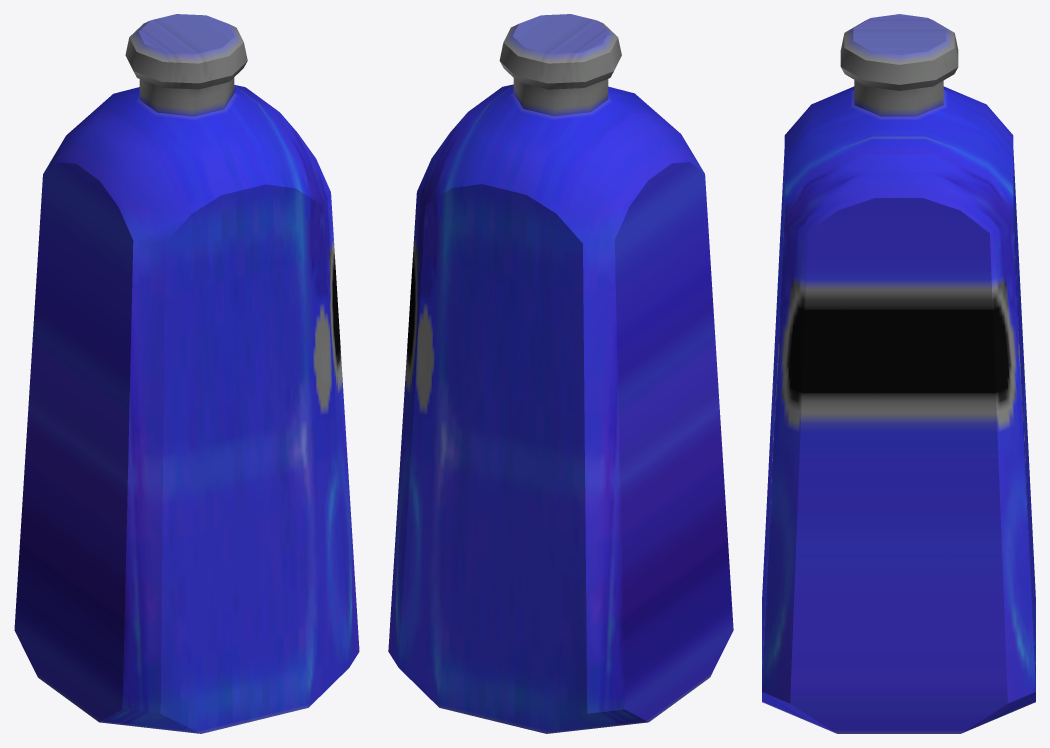
Rendered from eqp_bottle_s02_l0.fbx.
The picture shows the model from 3 angles, left to right: view 1: azimuth 30°, elevation 25°; view 2: azimuth 150°, elevation 25°; view 3: azimuth 270°, elevation 25°; orthographic projection.
Parts seen in each view (by area): view 1: mesh_node; view 2: mesh_node; view 3: mesh_node.
Part boxes in pixels (bbox=[...]): mesh_node: bbox=[14, 14, 359, 733]; mesh_node: bbox=[388, 14, 733, 733]; mesh_node: bbox=[762, 14, 1035, 733].
Bounding box in the file's own units: 0.0412 × 0.1059 × 0.041.
2 materials, 2 textured.
